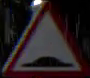Speed Breaker ahead: (2, 3, 85, 77)
